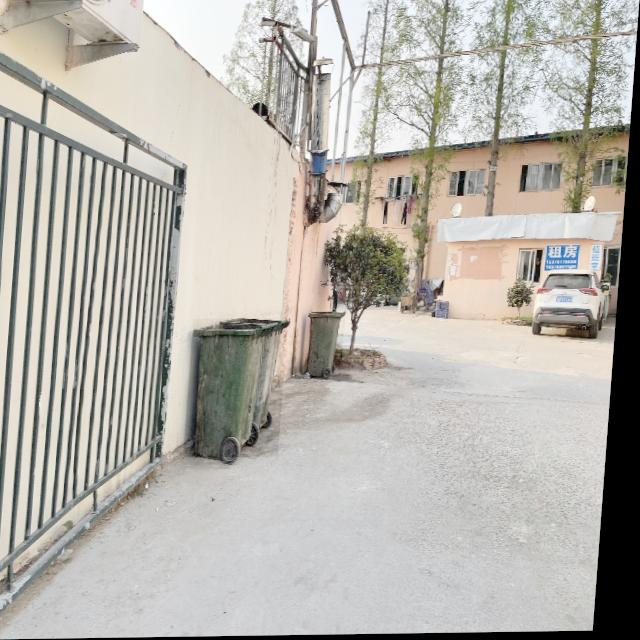garbage_bin: (190, 318, 293, 458), (310, 312, 351, 378)
